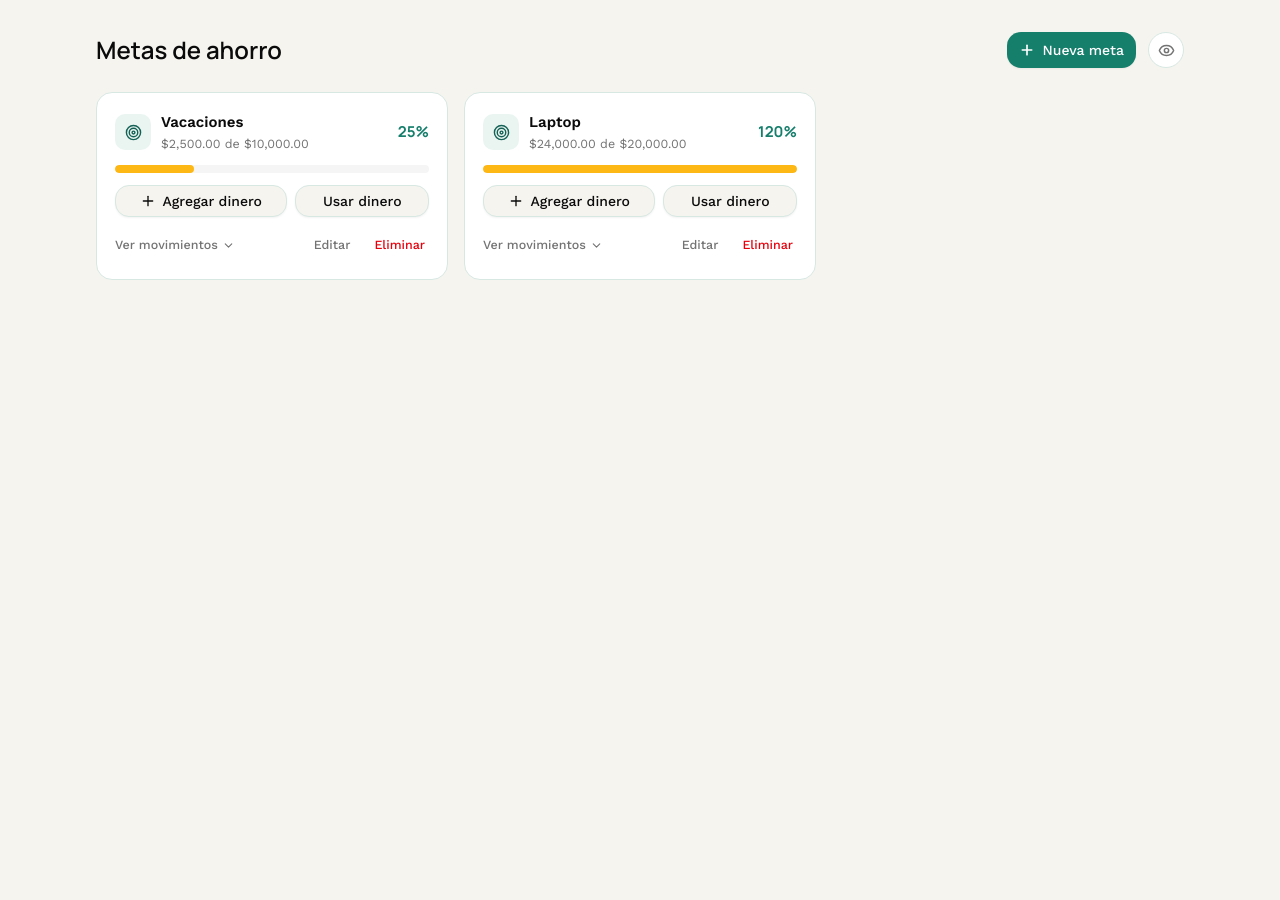
it: Metas — crear una meta › valida: sin nombre y con el objetivo en cero no se manda
Expected: the text "Vacaciones" is shown, [161, 113, 243, 131]
Click the button "Nueva meta" at (1071, 50), box [1006, 32, 1136, 68]
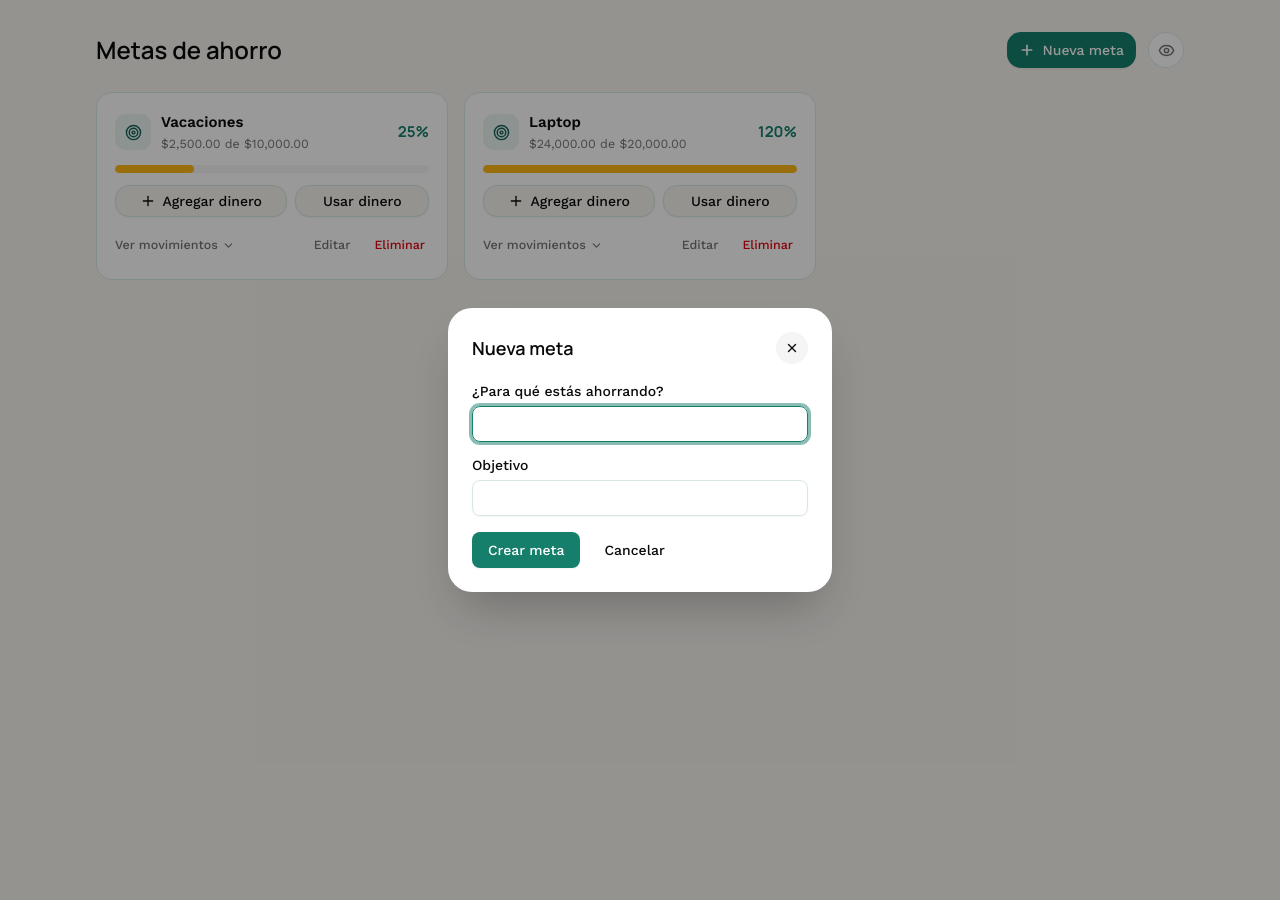
Type "0" into the number field labelled "Objetivo" at (640, 498), box [472, 480, 808, 516]
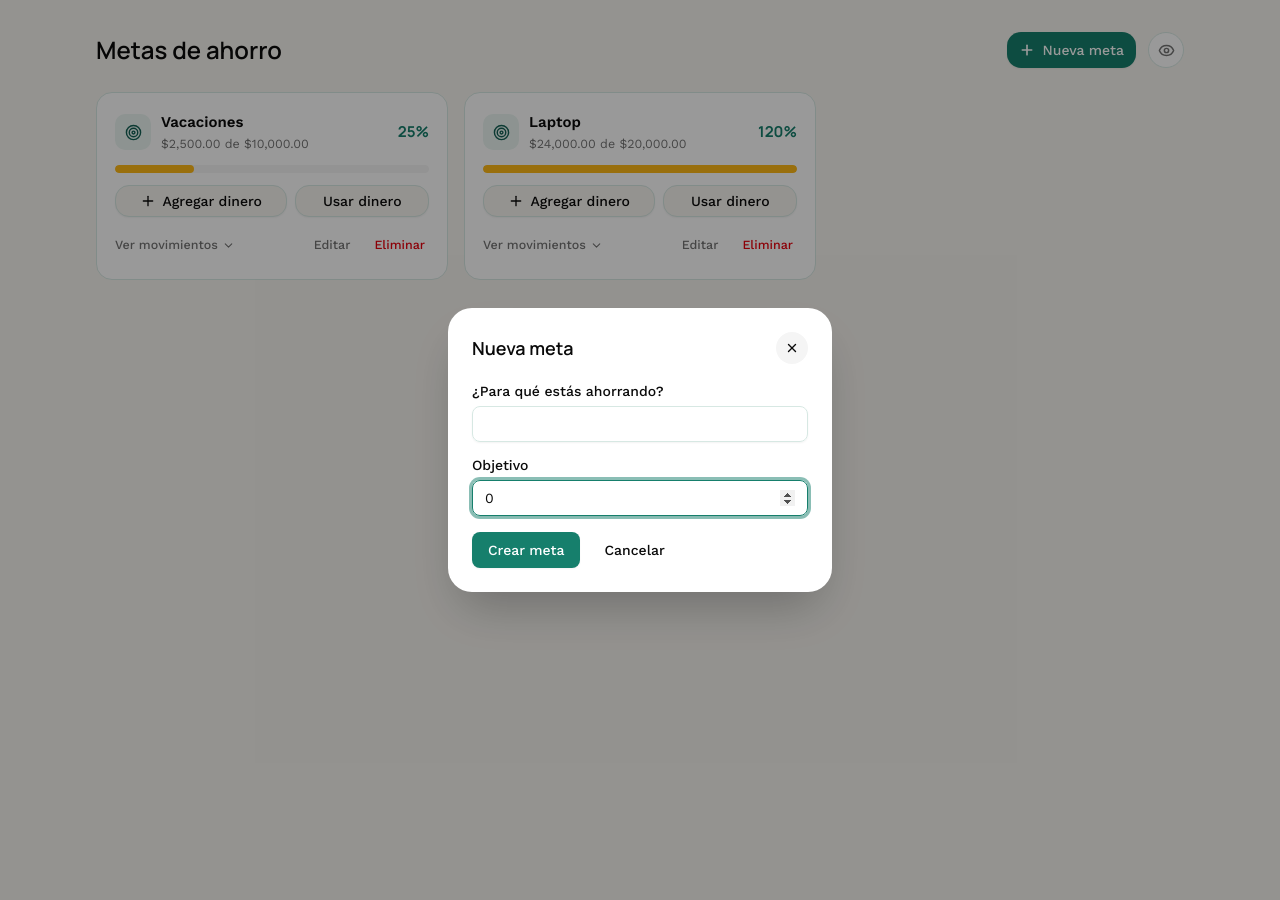
Click the button "Crear meta" at (526, 550), box [472, 532, 580, 568]
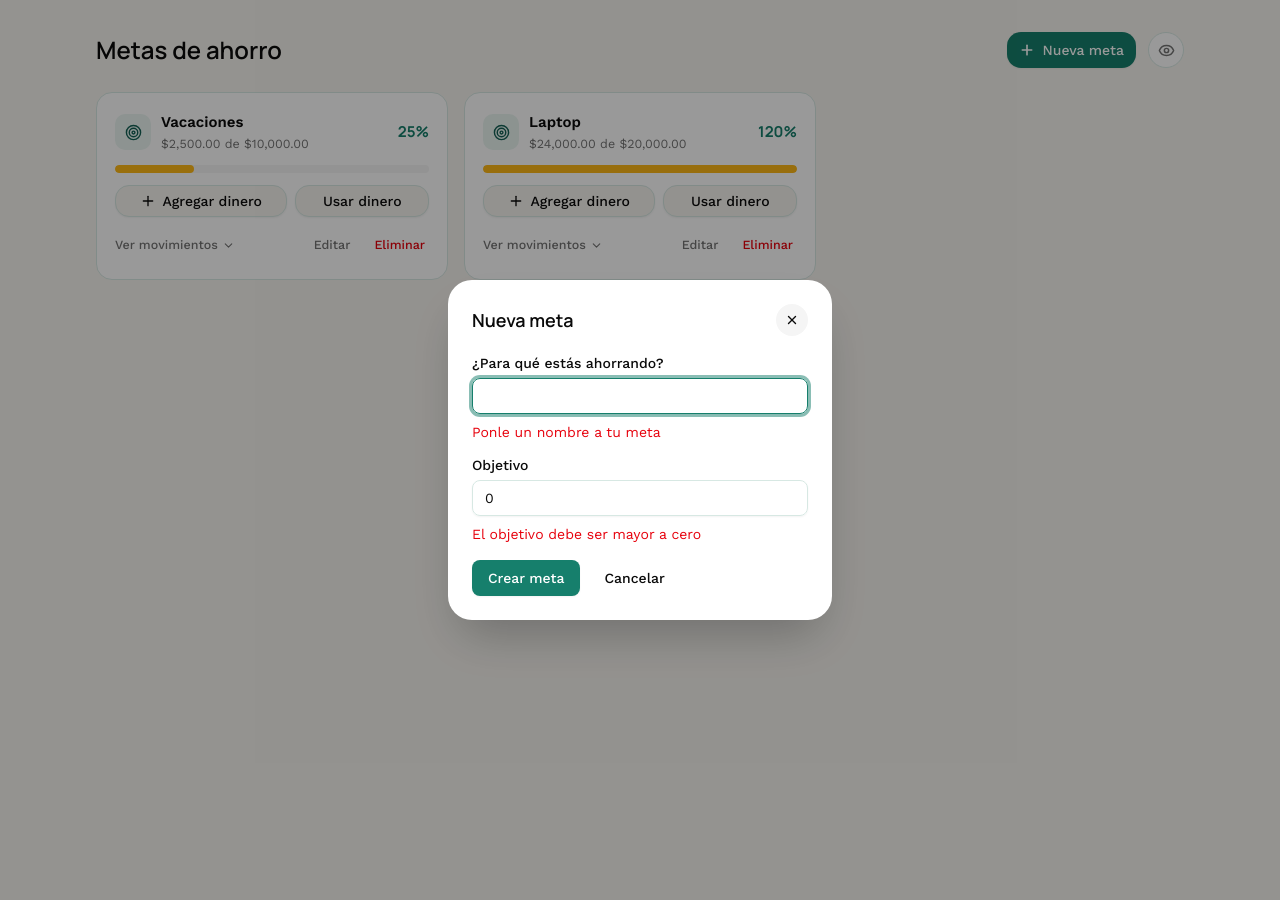
Expected: the text "Ponle un nombre a tu meta" is shown, [472, 424, 661, 440]
Expected: the text "El objetivo debe ser mayor a cero" is shown, [472, 526, 701, 542]
